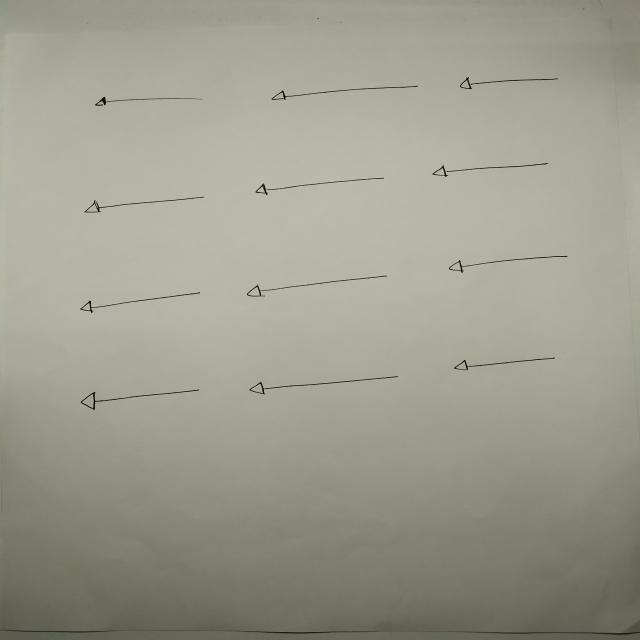arrow_line_left: (240, 268, 398, 308), (246, 368, 404, 402), (247, 168, 393, 204), (426, 154, 562, 192), (73, 284, 209, 320), (74, 380, 208, 416), (262, 80, 430, 108), (444, 342, 565, 380), (444, 248, 577, 282), (74, 192, 219, 216), (84, 90, 216, 114), (450, 72, 570, 94)
